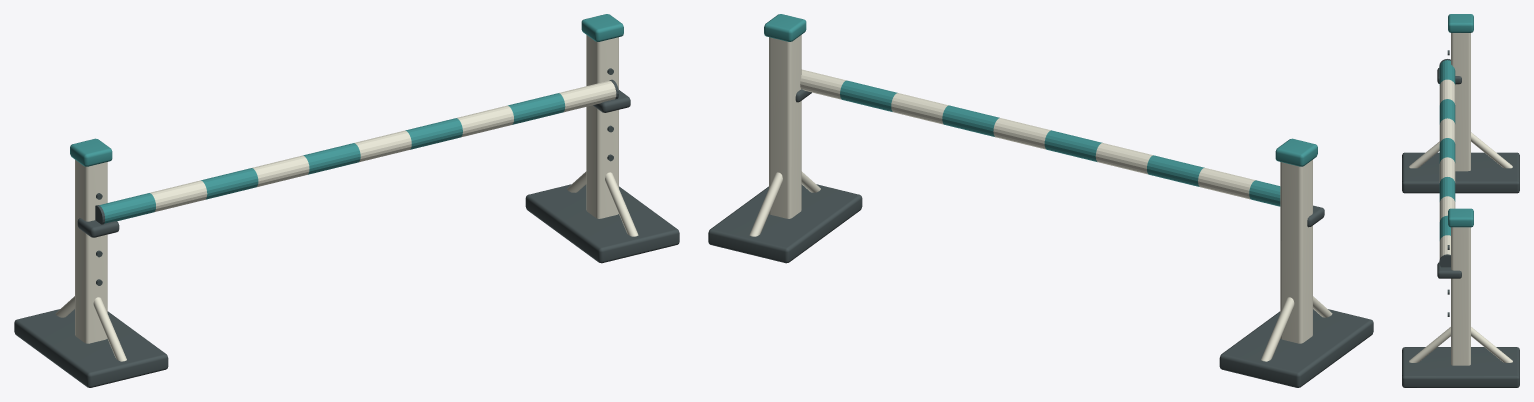
The model's file is w10b-reusable-riding-jump-wip.glb.
3 views of the same model, side by side, from view 1: azimuth 30°, elevation 25°; view 2: azimuth 150°, elevation 25°; view 3: azimuth 270°, elevation 25° (orthographic). The views are drawn at different scales.
Visible parts, largest first — view 1: Grounded cross foot.001, Grounded cross foot, Whitewashed upright, Whitewashed upright.001, Jump rail stripe 04, Jump rail stripe 06, Jump rail stripe 05, Jump rail stripe 02, Jump rail stripe 03, Jump rail stripe 07, Jump rail stripe 01, Jump rail stripe 08 (+6 smaller); view 2: Grounded cross foot.001, Grounded cross foot, Whitewashed upright, Whitewashed upright.001, Jump rail stripe 08, Jump rail stripe 05, Jump rail stripe 01, Jump rail stripe 02, Jump rail stripe 04, Jump rail stripe 07, Jump rail stripe 06, Jump rail stripe 03 (+6 smaller); view 3: Grounded cross foot.001, Grounded cross foot, Whitewashed upright.001, Whitewashed upright, Teal post cap.001, Teal post cap, Foot diagonal brace.001, Foot diagonal brace.002, Foot diagonal brace.003, Jump rail stripe 01, Jump rail stripe 03, Jump rail stripe 02 (+10 smaller).
Part boxes in pixels (left/top/right/bottom): Grounded cross foot.001: left=525, top=184, right=679, bottom=263; Grounded cross foot: left=14, top=309, right=168, bottom=387; Whitewashed upright: left=75, top=160, right=107, bottom=343; Whitewashed upright.001: left=586, top=35, right=618, bottom=218; Jump rail stripe 04: left=303, top=143, right=360, bottom=174; Jump rail stripe 06: left=405, top=118, right=462, bottom=149; Jump rail stripe 05: left=354, top=130, right=411, bottom=162; Jump rail stripe 02: left=201, top=168, right=258, bottom=199; Jump rail stripe 03: left=252, top=155, right=309, bottom=186; Jump rail stripe 07: left=457, top=105, right=513, bottom=137; Jump rail stripe 01: left=150, top=180, right=207, bottom=211; Jump rail stripe 08: left=508, top=93, right=565, bottom=124; Grounded cross foot.001: left=708, top=184, right=862, bottom=263; Grounded cross foot: left=1219, top=309, right=1373, bottom=387; Whitewashed upright: left=1280, top=160, right=1312, bottom=343; Whitewashed upright.001: left=769, top=35, right=801, bottom=218; Jump rail stripe 08: left=840, top=80, right=897, bottom=111; Jump rail stripe 05: left=993, top=118, right=1050, bottom=149; Jump rail stripe 01: left=1198, top=168, right=1255, bottom=199; Jump rail stripe 02: left=1147, top=155, right=1204, bottom=186; Jump rail stripe 04: left=1044, top=130, right=1102, bottom=161; Jump rail stripe 07: left=891, top=93, right=948, bottom=124; Jump rail stripe 06: left=942, top=105, right=999, bottom=136; Jump rail stripe 03: left=1095, top=143, right=1152, bottom=174; Grounded cross foot.001: left=1402, top=347, right=1519, bottom=387; Grounded cross foot: left=1402, top=152, right=1519, bottom=193; Whitewashed upright.001: left=1451, top=227, right=1470, bottom=365; Whitewashed upright: left=1451, top=33, right=1470, bottom=171; Teal post cap.001: left=1448, top=208, right=1473, bottom=227; Teal post cap: left=1448, top=14, right=1473, bottom=32; Foot diagonal brace.001: left=1471, top=132, right=1512, bottom=168; Foot diagonal brace.002: left=1409, top=327, right=1450, bottom=362; Foot diagonal brace.003: left=1471, top=327, right=1512, bottom=362; Jump rail stripe 01: left=1439, top=79, right=1455, bottom=104; Jump rail stripe 03: left=1439, top=118, right=1455, bottom=143; Jump rail stripe 02: left=1439, top=99, right=1455, bottom=124.
Bounding box in the file's own units: 4.75 × 1.58 × 1.05.
